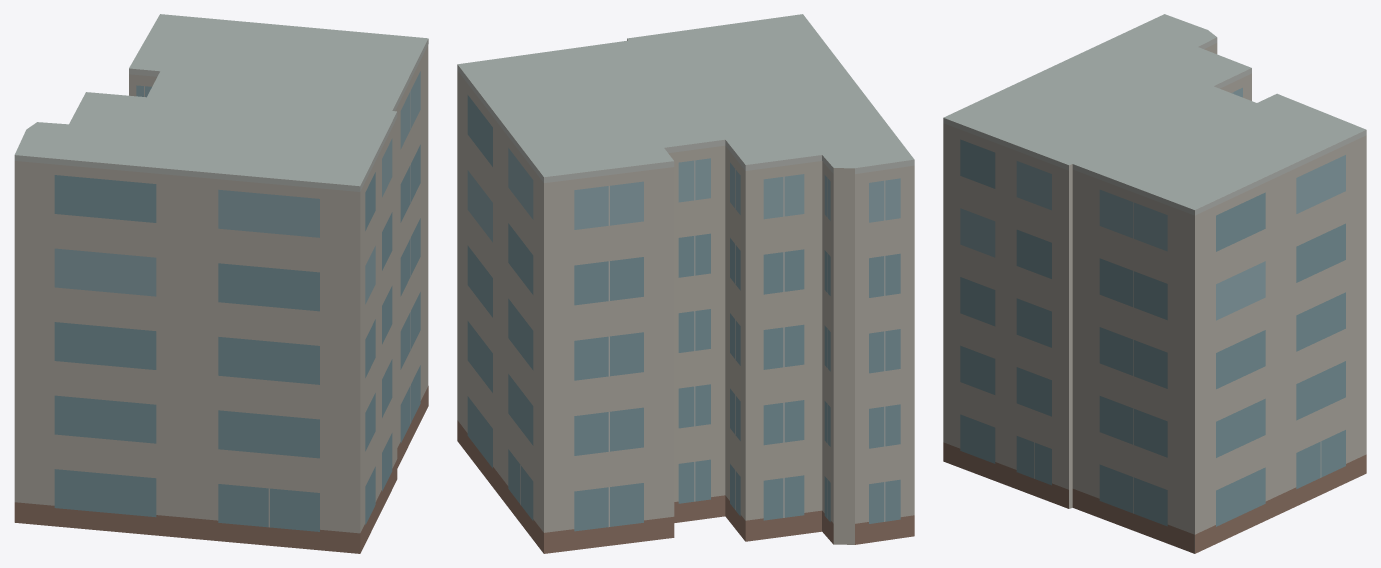
Rendered from survey-upis-32813506.glb.
3 views of the same model, side by side, from view 1: azimuth 30°, elevation 25°; view 2: azimuth 150°, elevation 25°; view 3: azimuth 270°, elevation 25° (orthographic). The views are drawn at different scales.
Visible parts, largest first — view 1: survey-upis-32813506.tmp; view 2: survey-upis-32813506.tmp; view 3: survey-upis-32813506.tmp.
Part boxes in pixels (left/top/right/bottom): survey-upis-32813506.tmp: left=14, top=14, right=428, bottom=553; survey-upis-32813506.tmp: left=457, top=14, right=914, bottom=553; survey-upis-32813506.tmp: left=943, top=14, right=1366, bottom=553.
Size of the model in its own units: 18.92 by 15.45 by 17.26.
